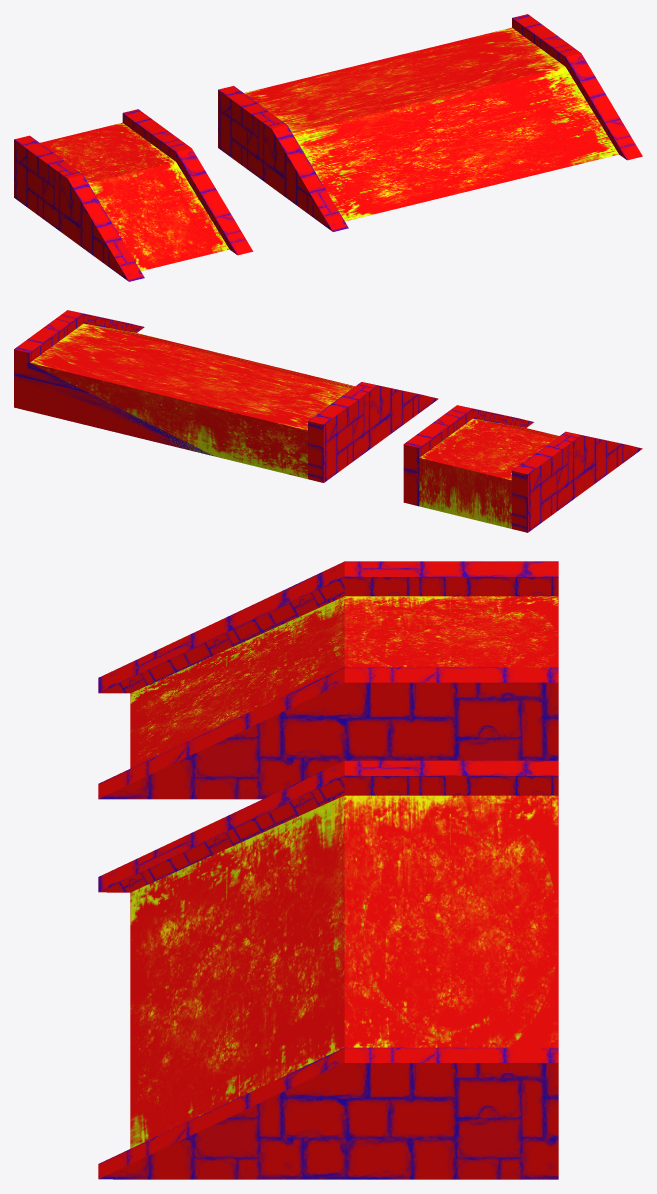
The model's file is Slope.fbx.
The picture shows the model from 3 angles, top to bottom: view 1: azimuth 30°, elevation 25°; view 2: azimuth 150°, elevation 25°; view 3: azimuth 270°, elevation 25°; orthographic projection. The views are drawn at different scales.
Visible parts, largest first — view 1: Slope_Wide, Slope1; view 2: Slope_Wide, Slope1; view 3: Slope_Wide, Slope1.
Part boxes in pixels (x1,y1,x2,y2): Slope_Wide: (218, 14, 642, 231); Slope1: (14, 109, 253, 281); Slope_Wide: (14, 310, 438, 482); Slope1: (403, 405, 642, 532); Slope_Wide: (98, 760, 558, 1179); Slope1: (98, 561, 558, 799).
Bounding box in the file's own units: 1108 × 120 × 430.
